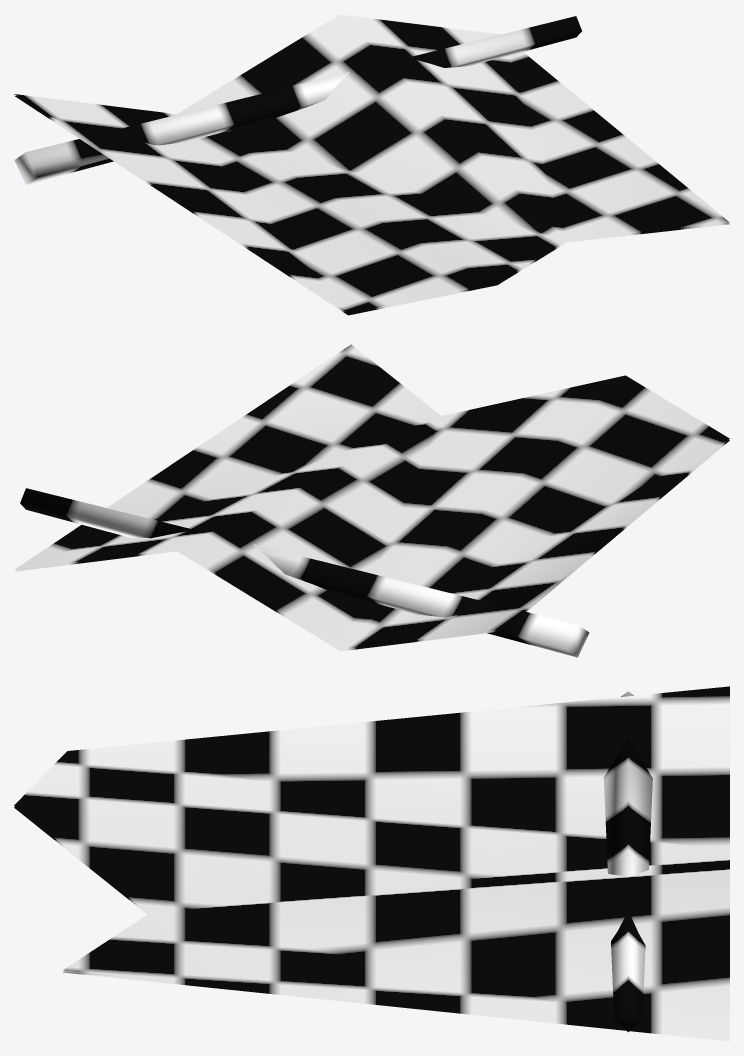
Rendered from initqu32.dae.
The picture shows the model from 3 angles, top to bottom: view 1: azimuth 30°, elevation 25°; view 2: azimuth 150°, elevation 25°; view 3: azimuth 270°, elevation 25°; orthographic projection. The views are drawn at different scales.
Parts seen in each view (by area): view 1: item; view 2: item; view 3: item.
Boxes of the visible parts, x1,y1,x2,y2 form: item: (14,14,729,315); item: (14,344,729,657); item: (14,686,729,1041).
Bounding box in the file's own units: 1.61 × 1.53 × 0.1727.
Materials: 1 (1 with a texture image).
